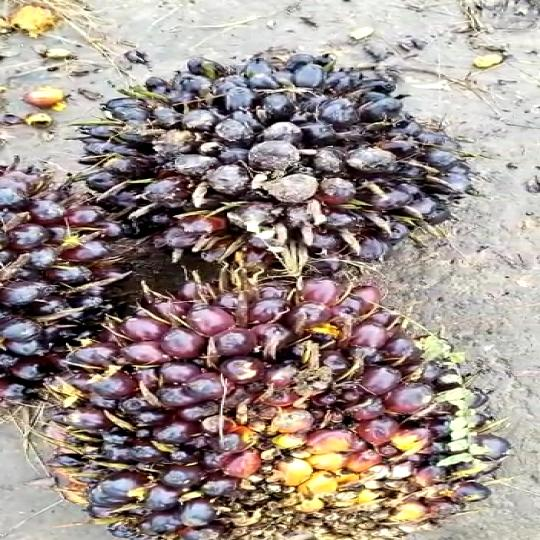mentah: (34, 271, 502, 540), (69, 44, 496, 282)
